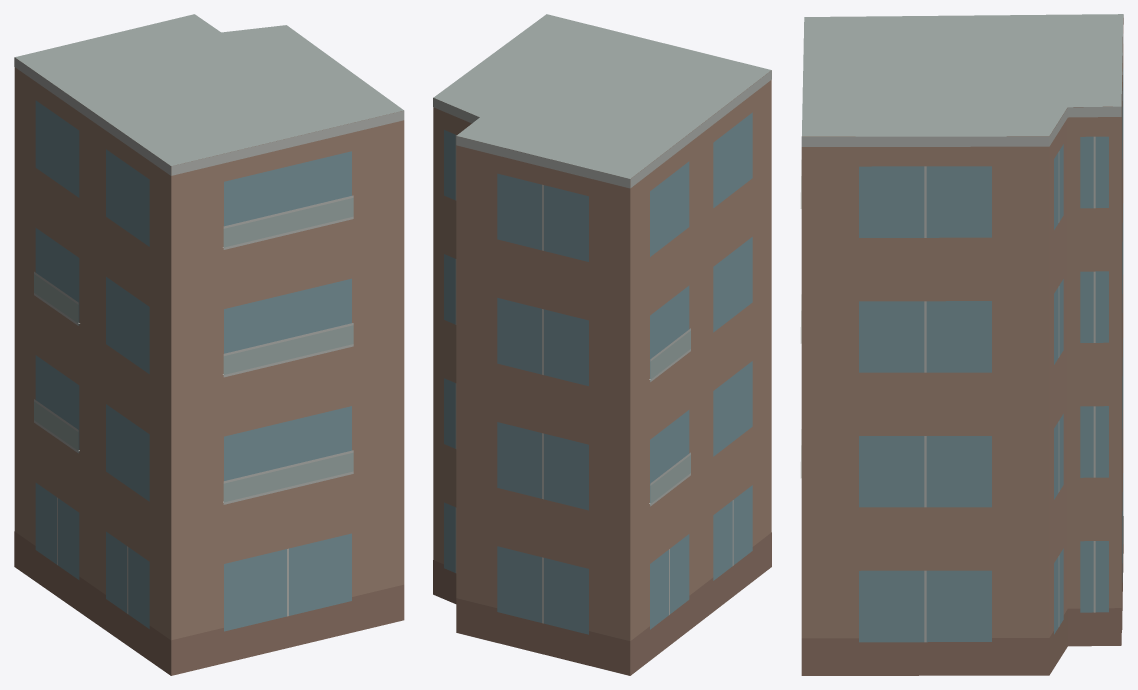
The model's file is survey-upis-32462414.glb.
3 renders of one model, left to right at view 1: azimuth 30°, elevation 25°; view 2: azimuth 150°, elevation 25°; view 3: azimuth 270°, elevation 25°, orthographic. The views are drawn at different scales.
Visible parts, largest first — view 1: survey-upis-32462414.tmp; view 2: survey-upis-32462414.tmp; view 3: survey-upis-32462414.tmp.
Part boxes in pixels (bbox=[...]): survey-upis-32462414.tmp: bbox=[14, 14, 404, 675]; survey-upis-32462414.tmp: bbox=[433, 14, 771, 675]; survey-upis-32462414.tmp: bbox=[800, 14, 1123, 675].
Bounding box in the file's own units: 6.24 × 12.73 × 6.91.
